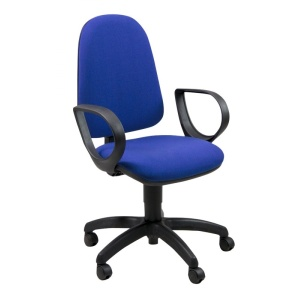chair: (74, 14, 235, 285)
